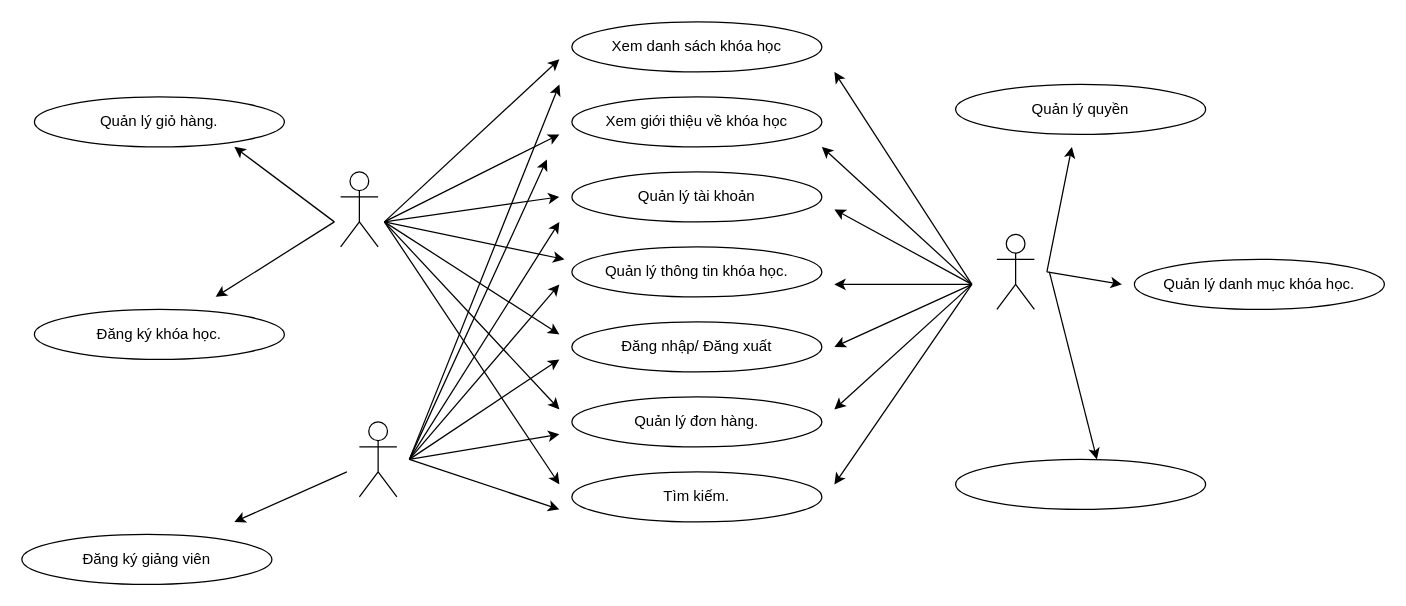
Some shapes in this 1406 by 606 pixel diagram are drawn without their labels. Each missing label, with the centre of its shape:
Báo cáo thống kê.: pixel 1080 483
Giảng viên: pixel 377 459
Học viên: pixel 358 209
Quản trị viên: pixel 1015 271
